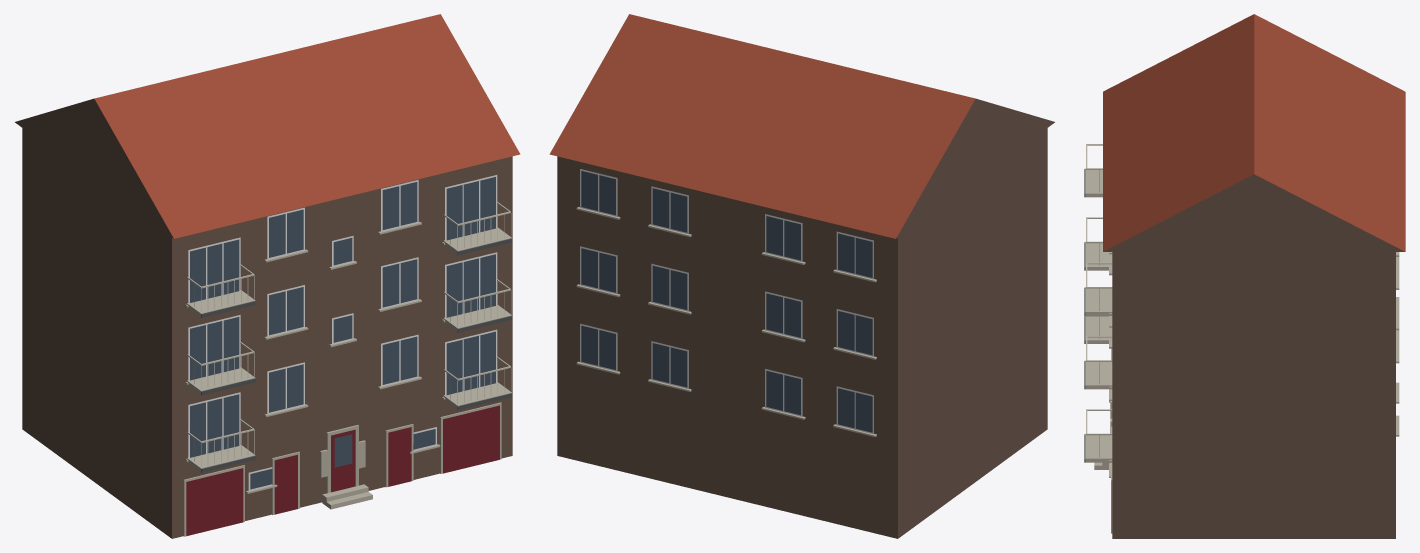
The model's file is nw-portiek-hof-garage-4st__brown-red__4__gable__long__solid.glb.
3 views of the same model, side by side, from view 1: azimuth 30°, elevation 25°; view 2: azimuth 150°, elevation 25°; view 3: azimuth 270°, elevation 25° (orthographic). The views are drawn at different scales.
Visible parts, largest first — view 1: nw-portiek-hof-garage-4st__brown-red__4__gable__long__solid; view 2: nw-portiek-hof-garage-4st__brown-red__4__gable__long__solid; view 3: nw-portiek-hof-garage-4st__brown-red__4__gable__long__solid.
Boxes of the visible parts, <box> form: nw-portiek-hof-garage-4st__brown-red__4__gable__long__solid: <box>15,14,520,538</box>; nw-portiek-hof-garage-4st__brown-red__4__gable__long__solid: <box>549,14,1054,538</box>; nw-portiek-hof-garage-4st__brown-red__4__gable__long__solid: <box>1084,14,1405,538</box>.
Size of the model in its own units: 14.02 by 14.94 by 11.87.
